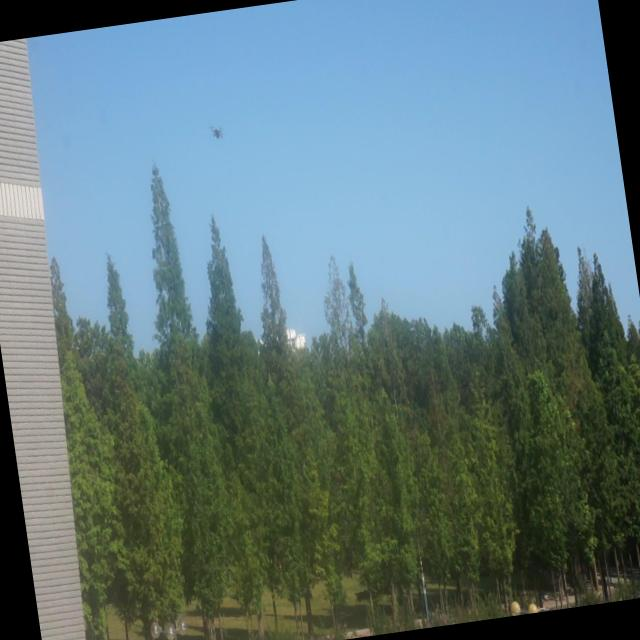drone: (205, 120, 224, 148)
